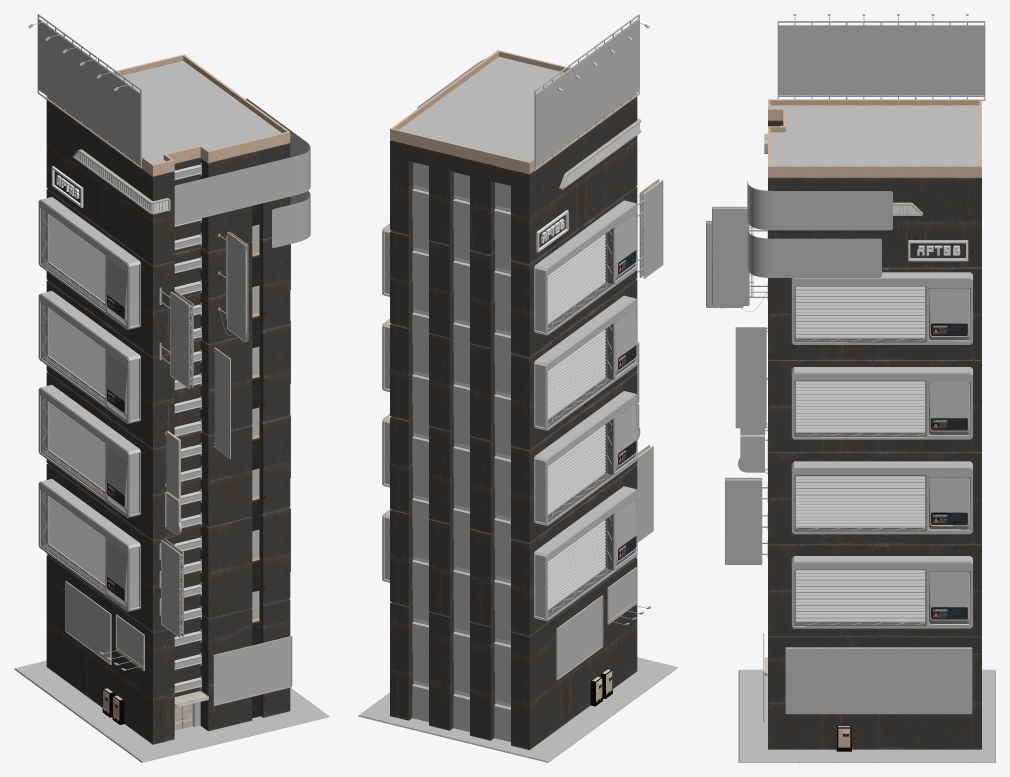
The model's file is k70_赛博朋克_23.fbx.
The picture shows the model from 3 angles, left to right: view 1: azimuth 30°, elevation 25°; view 2: azimuth 150°, elevation 25°; view 3: azimuth 270°, elevation 25°; orthographic projection.
Visible parts, largest first — view 1: KB3D_CBP_Residential_J_Building, KB3D_CBP_Residential_J_BillboardI, KB3D_CBP_Residential_J_UtilityDeviceC, KB3D_CBP_Residential_J_UtilityDeviceE, KB3D_CBP_Residential_J_UtilityDeviceF, KB3D_CBP_Residential_J_UtilityDeviceD, KB3D_CBP_Residential_J_Hologram, KB3D_CBP_Residential_J_Sidewalk, KB3D_CBP_Residential_J_BillboardB, KB3D_CBP_Residential_J_BillboardA, KB3D_CBP_Residential_J_BillboardE, KB3D_CBP_Residential_J_BillboardH (+5 smaller); view 2: KB3D_CBP_Residential_J_Building, KB3D_CBP_Residential_J_BillboardI, KB3D_CBP_Residential_J_UtilityDeviceF, KB3D_CBP_Residential_J_UtilityDeviceE, KB3D_CBP_Residential_J_UtilityDeviceC, KB3D_CBP_Residential_J_UtilityDeviceD, KB3D_CBP_Residential_J_Sidewalk, KB3D_CBP_Residential_J_BillboardA, KB3D_CBP_Residential_J_BillboardH, KB3D_CBP_Residential_J_BillboardF, KB3D_CBP_Residential_J_BillboardC, KB3D_CBP_Residential_J_ACunitA (+4 smaller); view 3: KB3D_CBP_Residential_J_Building, KB3D_CBP_Residential_J_BillboardI, KB3D_CBP_Residential_J_UtilityDeviceH, KB3D_CBP_Residential_J_UtilityDeviceG, KB3D_CBP_Residential_J_UtilityDeviceI, KB3D_CBP_Residential_J_BillboardJ, KB3D_CBP_Residential_J_UtilityDeviceJ, KB3D_CBP_Residential_J_Hologram, KB3D_CBP_Residential_J_Sidewalk, KB3D_CBP_Residential_J_BillboardE, KB3D_CBP_Residential_J_BillboardF, KB3D_CBP_Residential_J_BillboardD (+3 smaller).
Part boxes in pixels (x1,y1,x2,y2): KB3D_CBP_Residential_J_Building: (46, 54, 290, 744); KB3D_CBP_Residential_J_BillboardI: (28, 14, 141, 168); KB3D_CBP_Residential_J_UtilityDeviceC: (38, 479, 140, 611); KB3D_CBP_Residential_J_UtilityDeviceE: (38, 291, 140, 423); KB3D_CBP_Residential_J_UtilityDeviceF: (38, 197, 140, 329); KB3D_CBP_Residential_J_UtilityDeviceD: (38, 385, 140, 517); KB3D_CBP_Residential_J_Hologram: (174, 98, 310, 247); KB3D_CBP_Residential_J_Sidewalk: (14, 660, 329, 762); KB3D_CBP_Residential_J_BillboardB: (213, 636, 292, 705); KB3D_CBP_Residential_J_BillboardA: (65, 581, 111, 664); KB3D_CBP_Residential_J_BillboardE: (218, 231, 248, 342); KB3D_CBP_Residential_J_BillboardH: (159, 287, 193, 388); KB3D_CBP_Residential_J_Building: (390, 50, 641, 749); KB3D_CBP_Residential_J_BillboardI: (534, 14, 649, 170); KB3D_CBP_Residential_J_UtilityDeviceF: (534, 200, 637, 335); KB3D_CBP_Residential_J_UtilityDeviceE: (534, 295, 637, 430); KB3D_CBP_Residential_J_UtilityDeviceC: (534, 486, 637, 621); KB3D_CBP_Residential_J_UtilityDeviceD: (534, 391, 637, 525); KB3D_CBP_Residential_J_Sidewalk: (358, 657, 677, 762); KB3D_CBP_Residential_J_BillboardA: (556, 595, 603, 680); KB3D_CBP_Residential_J_BillboardH: (637, 179, 663, 278); KB3D_CBP_Residential_J_BillboardF: (636, 445, 653, 542); KB3D_CBP_Residential_J_BillboardC: (607, 567, 651, 625); KB3D_CBP_Residential_J_ACunitA: (590, 668, 612, 706); KB3D_CBP_Residential_J_Building: (764, 99, 981, 749); KB3D_CBP_Residential_J_BillboardI: (777, 14, 985, 100); KB3D_CBP_Residential_J_UtilityDeviceH: (791, 461, 972, 534); KB3D_CBP_Residential_J_UtilityDeviceG: (791, 556, 972, 628); KB3D_CBP_Residential_J_UtilityDeviceI: (791, 367, 972, 439); KB3D_CBP_Residential_J_BillboardJ: (785, 647, 972, 714); KB3D_CBP_Residential_J_UtilityDeviceJ: (791, 272, 972, 344); KB3D_CBP_Residential_J_Hologram: (747, 181, 892, 277); KB3D_CBP_Residential_J_Sidewalk: (738, 669, 995, 762); KB3D_CBP_Residential_J_BillboardE: (712, 206, 767, 311); KB3D_CBP_Residential_J_BillboardF: (725, 477, 767, 564); KB3D_CBP_Residential_J_BillboardD: (735, 327, 767, 428).
Size of the model in its own units: 22.4 by 74.64 by 29.76.
